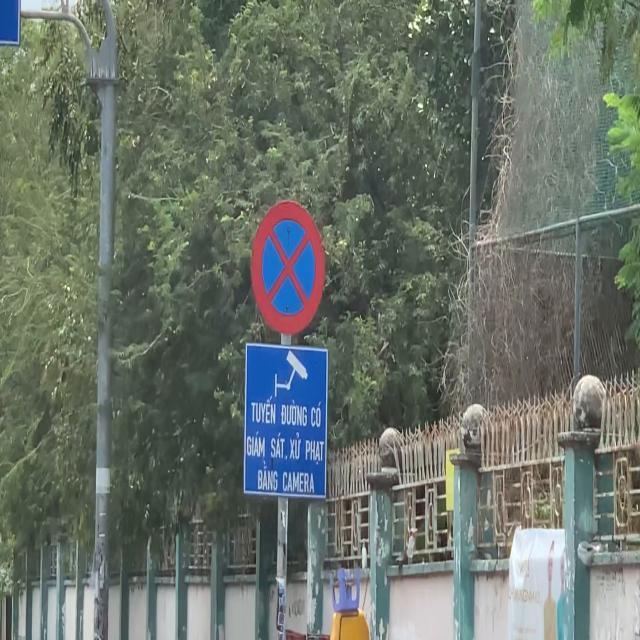Cam dung va do: (251, 200, 325, 335)
